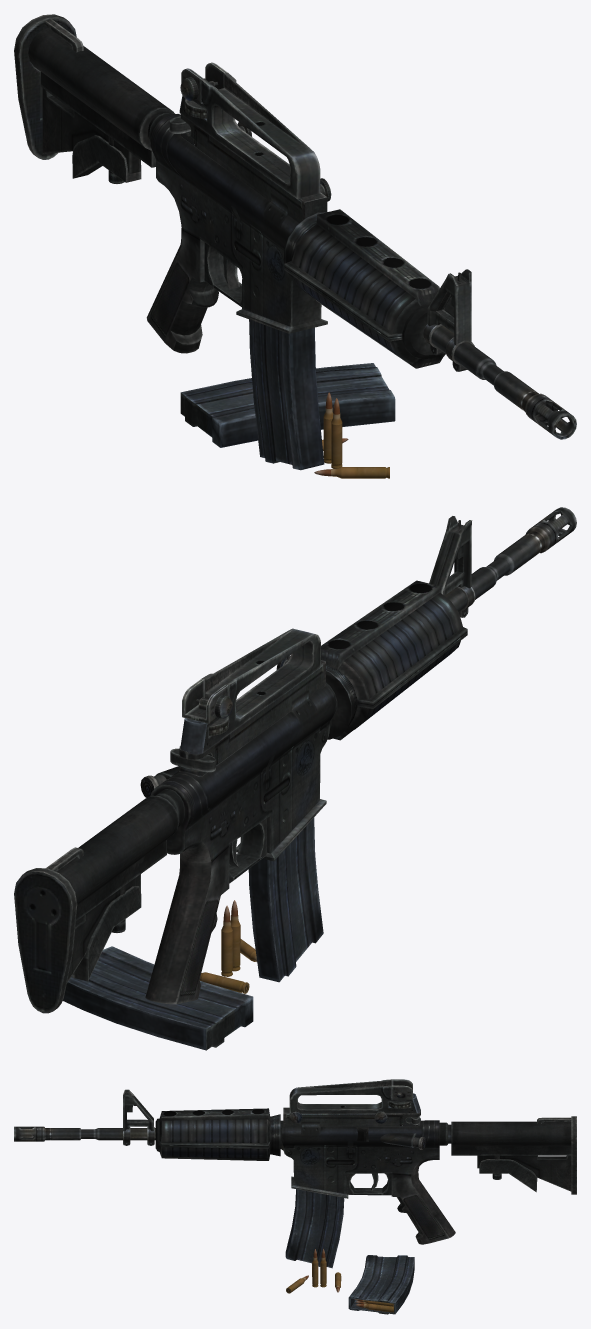
The picture shows the model from 3 angles, top to bottom: view 1: azimuth 30°, elevation 25°; view 2: azimuth 150°, elevation 25°; view 3: azimuth 270°, elevation 25°; orthographic projection. The views are drawn at different scales.
Visible parts, largest first — view 1: m16_rifle, m16_holder_01, m16_holder_02, m16_bullet07, m16_bullet04; view 2: m16_rifle, m16_holder_02, m16_holder_01, m16_bullet05; view 3: m16_rifle, m16_holder_01, m16_holder_02.
Part boxes in pixels (x1,y1,x2,y2): m16_rifle: (14,14,576,439); m16_holder_01: (249,319,324,470); m16_holder_02: (180,363,395,447); m16_bullet07: (314,467,389,478); m16_bullet04: (331,398,342,468); m16_rifle: (14,507,576,1013); m16_holder_02: (62,946,253,1050); m16_holder_01: (248,817,323,982); m16_bullet05: (221,905,232,976); m16_rifle: (14,1079,576,1244); m16_holder_01: (285,1189,344,1268); m16_holder_02: (348,1255,414,1314).
Size of the model in its own units: 0.2243 by 0.3658 by 0.9817.
1 material, 1 textured.
